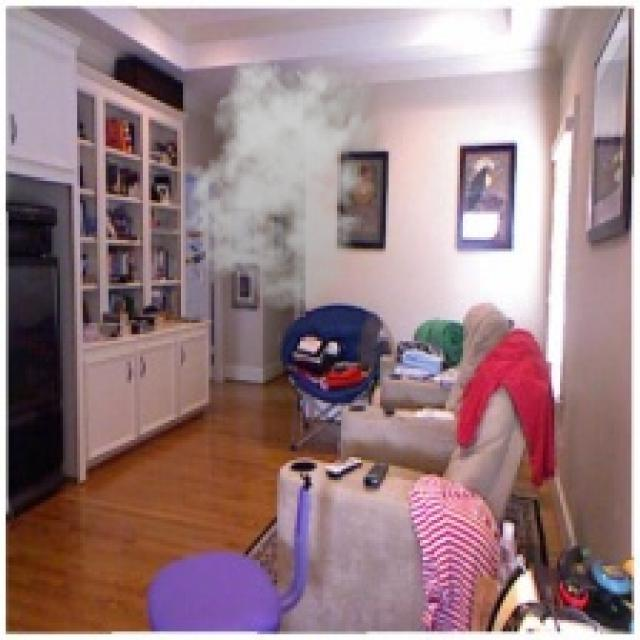smoke: (183, 48, 388, 312)
